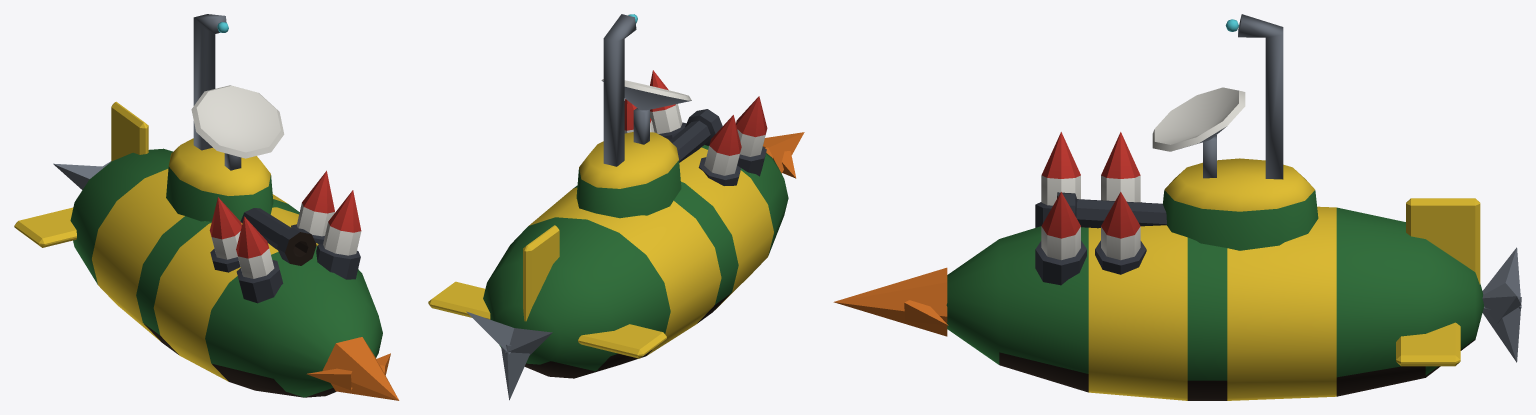
3 views of the same model, side by side, from view 1: azimuth 30°, elevation 25°; view 2: azimuth 150°, elevation 25°; view 3: azimuth 270°, elevation 25° (orthographic). The views are drawn at different scales.
Visible parts, largest first — view 1: submarino_0_base, submarino_1_torreta; view 2: submarino_0_base, submarino_1_torreta; view 3: submarino_0_base, submarino_1_torreta.
Boxes of the visible parts, box(x1,y1,x2,y2) form: submarino_0_base: box(14, 101, 399, 400); submarino_1_torreta: box(166, 14, 316, 265); submarino_0_base: box(428, 70, 804, 400); submarino_1_torreta: box(576, 14, 722, 218); submarino_0_base: box(833, 132, 1521, 400); submarino_1_torreta: box(1057, 14, 1318, 250).
Size of the model in its own units: 0.58 by 0.8253 by 1.39.
